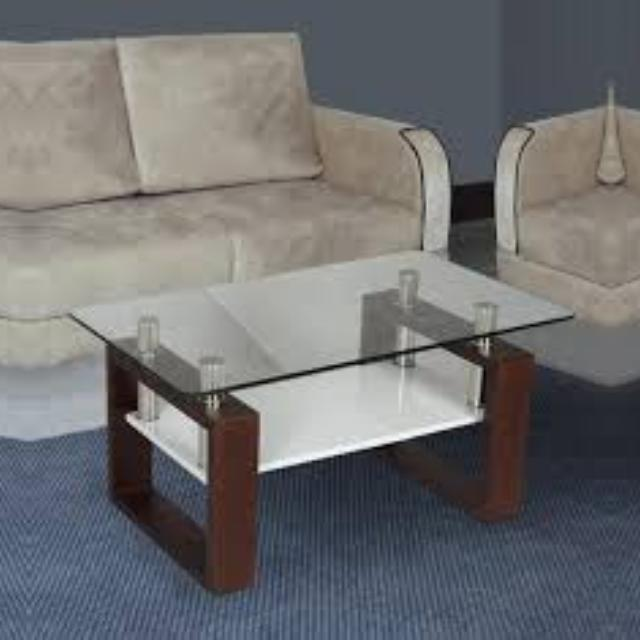obstacle: (59, 232, 607, 624), (614, 231, 640, 624)
